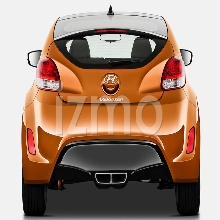no damage: (21, 13, 200, 220)
